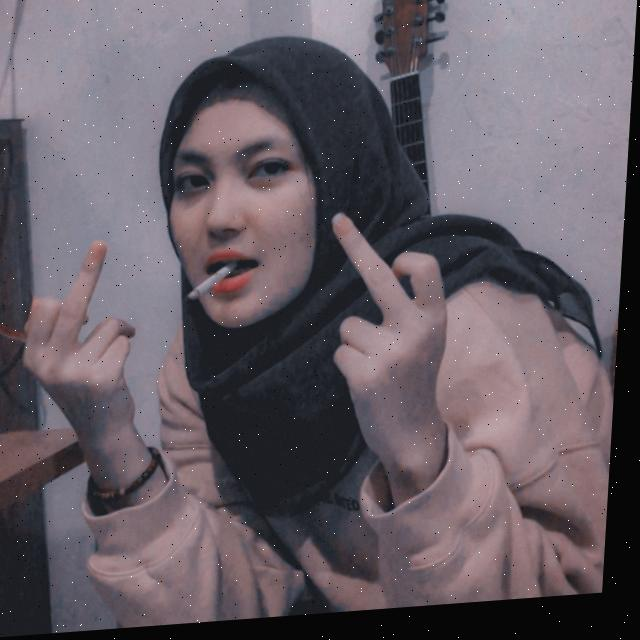cigarette: (189, 265, 241, 304)
